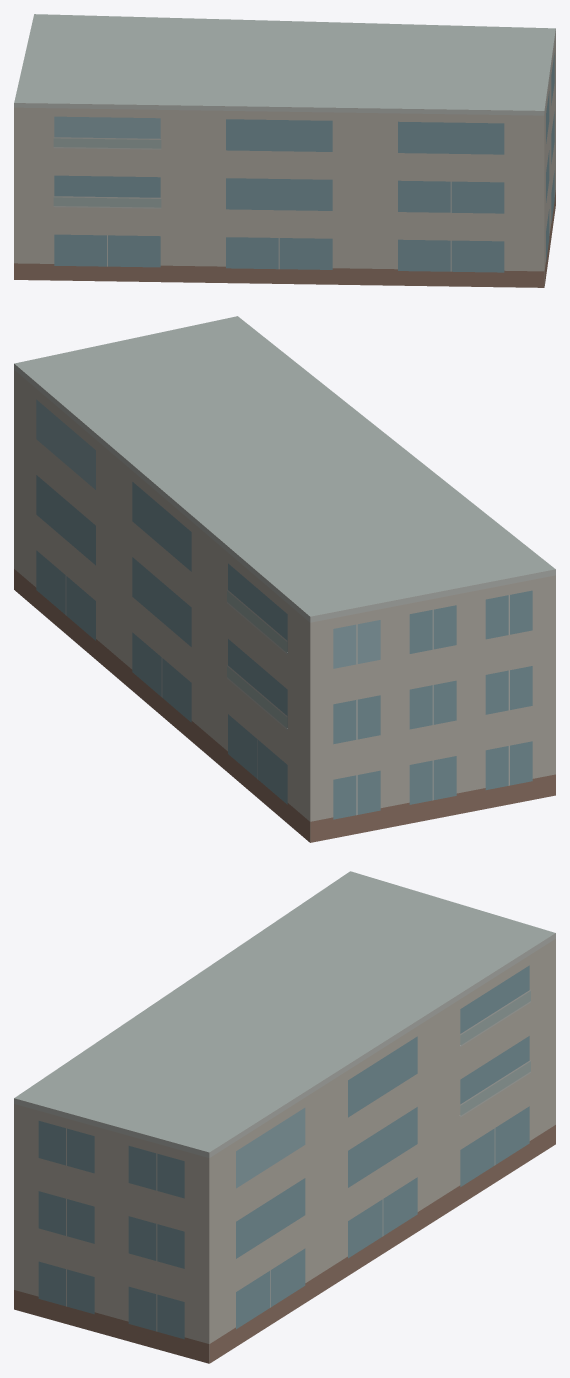
File: survey-upis-32851846.glb
3 renders of one model, top to bottom at view 1: azimuth 30°, elevation 25°; view 2: azimuth 150°, elevation 25°; view 3: azimuth 270°, elevation 25°, orthographic. The views are drawn at different scales.
Visible parts, largest first — view 1: survey-upis-32851846.tmp; view 2: survey-upis-32851846.tmp; view 3: survey-upis-32851846.tmp.
Part boxes in pixels (left/top/right/bottom): survey-upis-32851846.tmp: left=14, top=14, right=555, bottom=287; survey-upis-32851846.tmp: left=14, top=316, right=555, bottom=842; survey-upis-32851846.tmp: left=14, top=871, right=555, bottom=1363.
Bounding box in the file's own units: 26.14 × 9.15 × 21.27.
